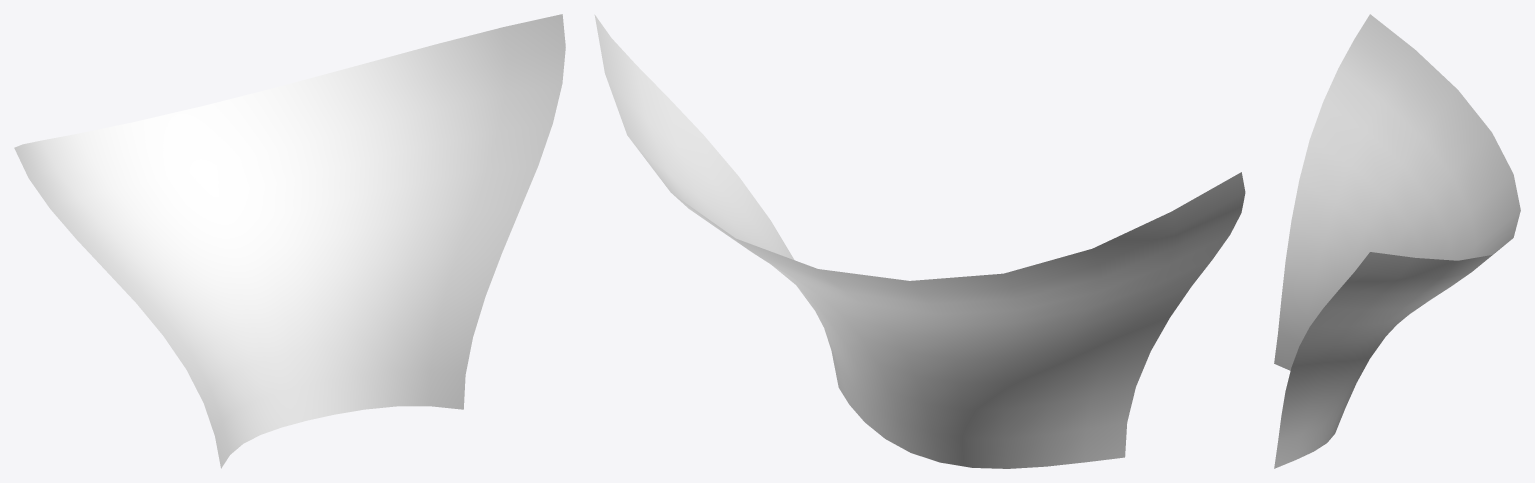
File: water_splash_frog2.fbx
3 views of the same model, side by side, from view 1: azimuth 30°, elevation 25°; view 2: azimuth 150°, elevation 25°; view 3: azimuth 270°, elevation 25° (orthographic). The views are drawn at different scales.
Visible parts, largest first — view 1: pPlane1; view 2: pPlane1; view 3: pPlane1.
Boxes of the visible parts, box(x1,y1,x2,y2) form: pPlane1: box(14, 14, 565, 468); pPlane1: box(594, 14, 1245, 468); pPlane1: box(1274, 14, 1520, 468).
Bounding box in the file's own units: 39.04 × 22.21 × 17.12.
1 material, 1 textured.
